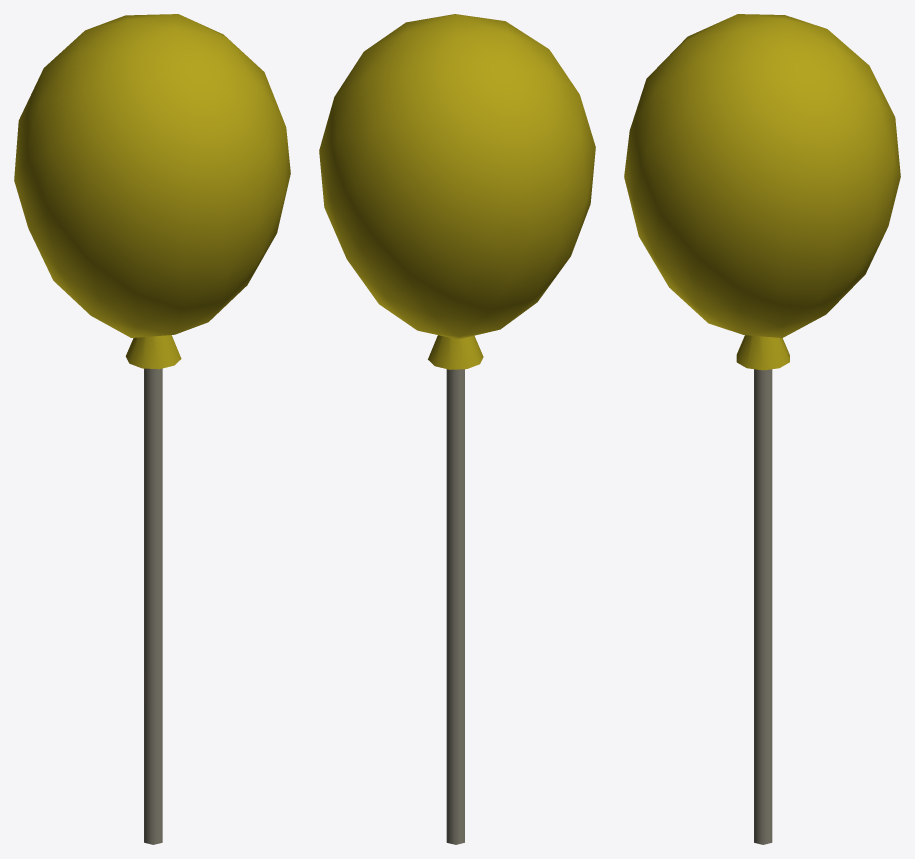
Rendered from baloon_03.fbx.
The picture shows the model from 3 angles, left to right: view 1: azimuth 30°, elevation 25°; view 2: azimuth 150°, elevation 25°; view 3: azimuth 270°, elevation 25°; orthographic projection.
Parts seen in each view (by area): view 1: baloon_03; view 2: baloon_03; view 3: baloon_03.
Boxes of the visible parts, x1,y1,x2,y2 form: baloon_03: [14, 14, 290, 844]; baloon_03: [319, 14, 595, 844]; baloon_03: [624, 14, 900, 844].
Bounding box in the file's own units: 75.08 × 247 × 76.18.
